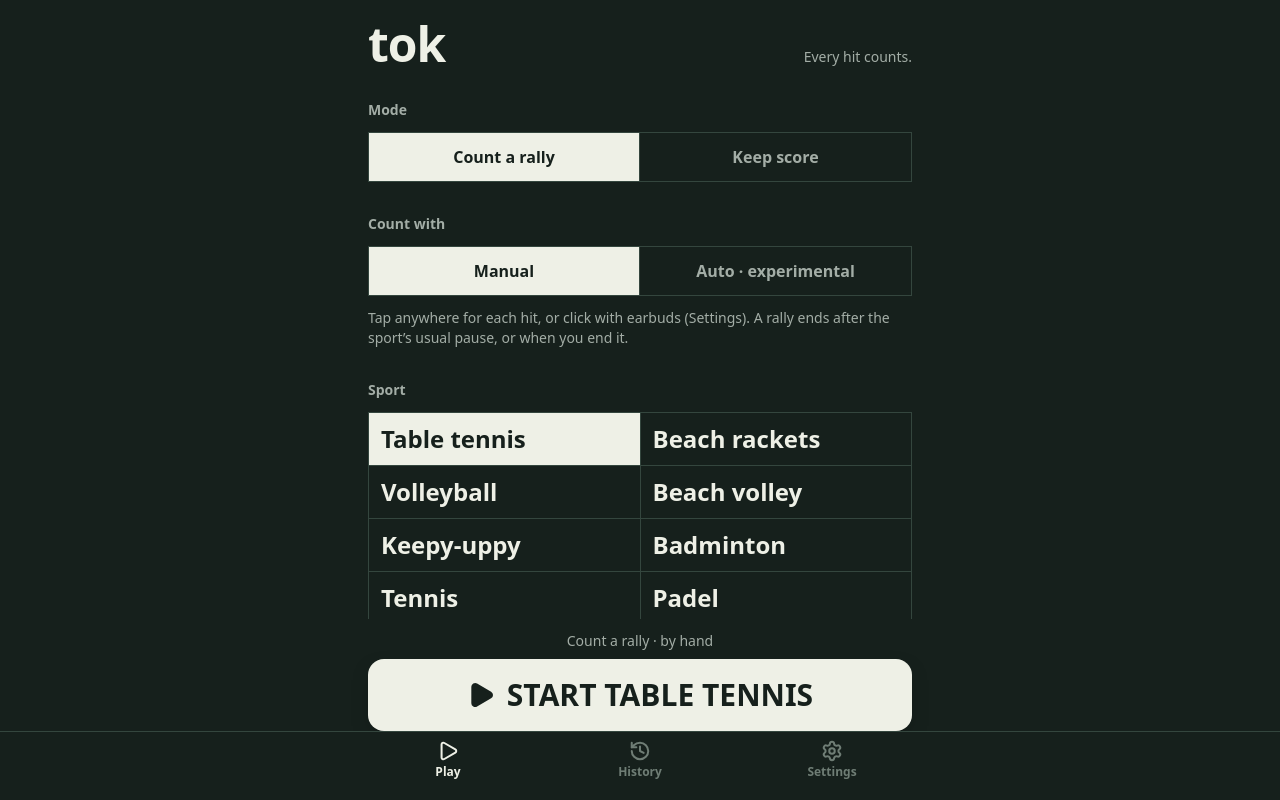
Test: after ending, Back does not reopen the live screen
Click the radio button labelled "Manual" at (504, 271), box 369,247 -> 640,295
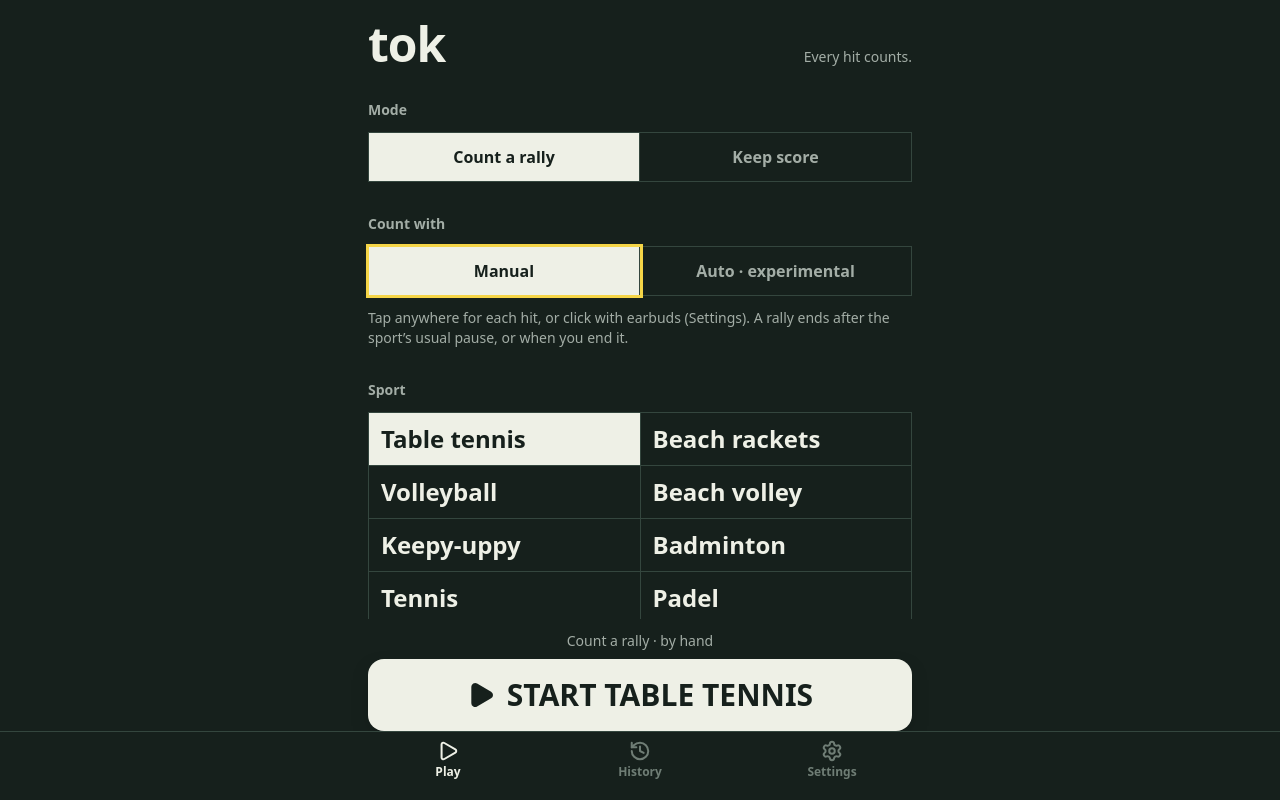
Click the button "Start table tennis" at (640, 695), box 368,659 -> 912,731
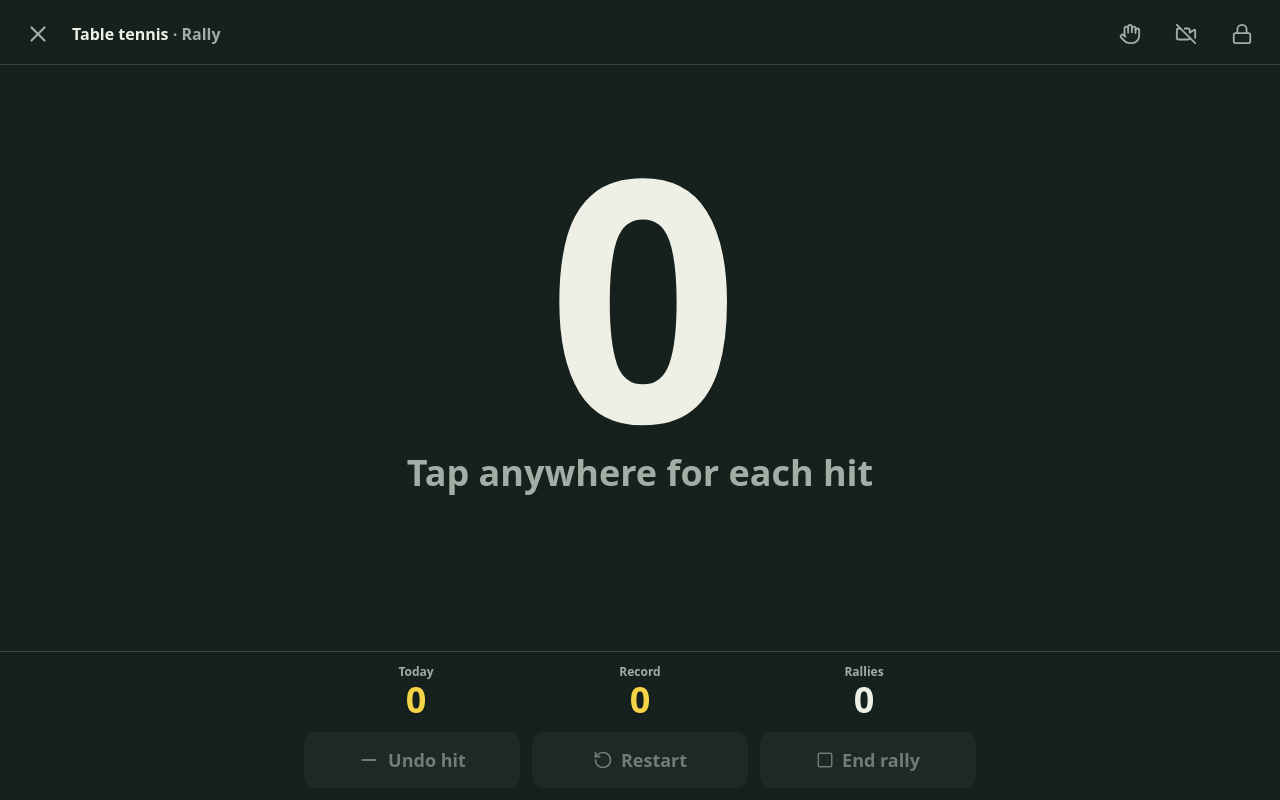
Click the button named "add a hit" at (640, 358), box 0,65 -> 1279,651
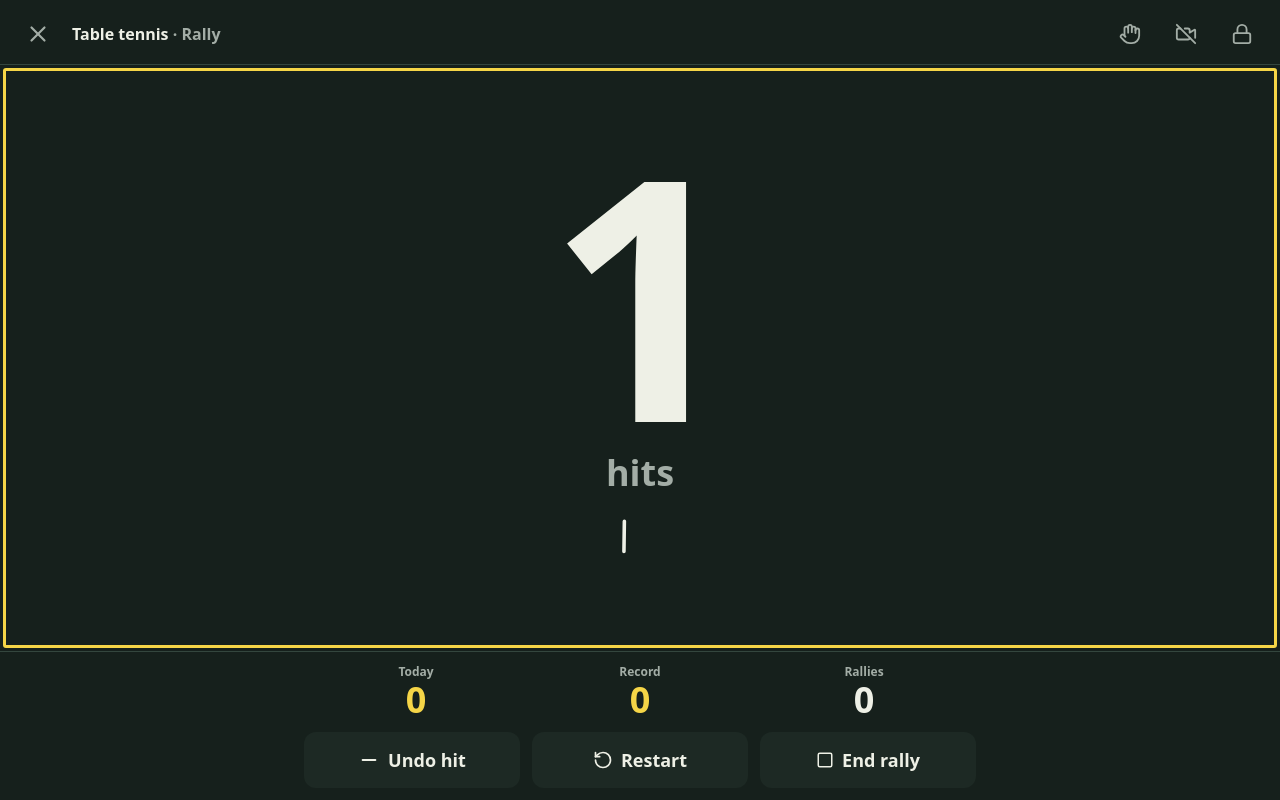
Click the button "End rally" at (868, 760), box 760,732 -> 976,788
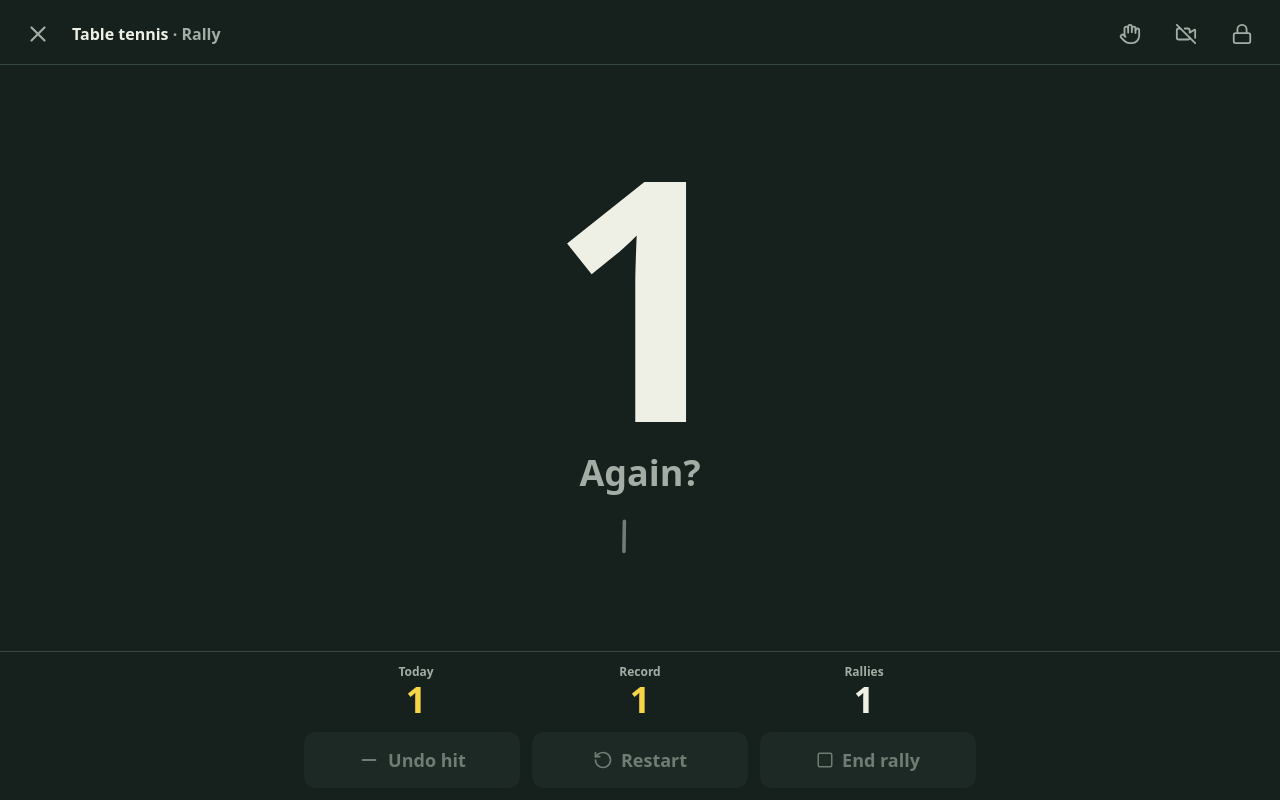
Click the button named "end session" at (38, 34), box 16,12 -> 60,56
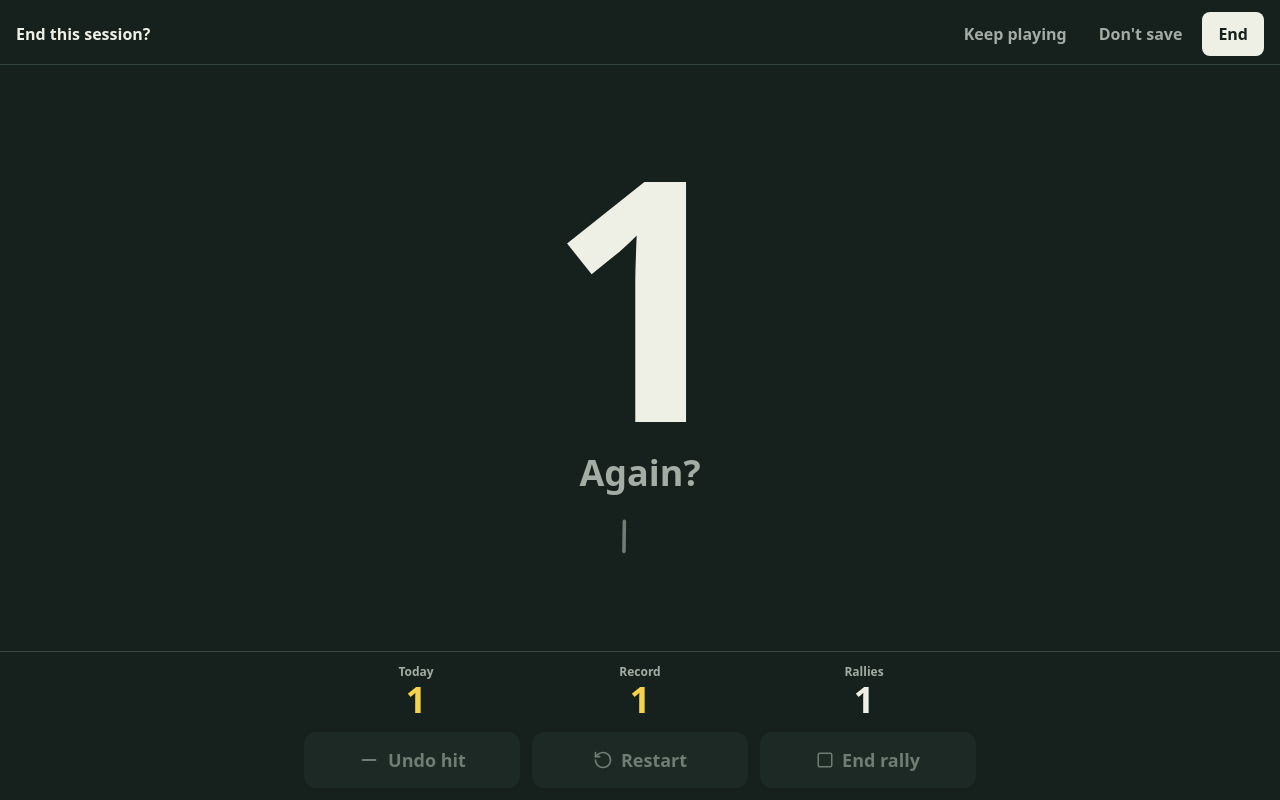
Click the button "End" at (1233, 34), box 1202,12 -> 1264,56
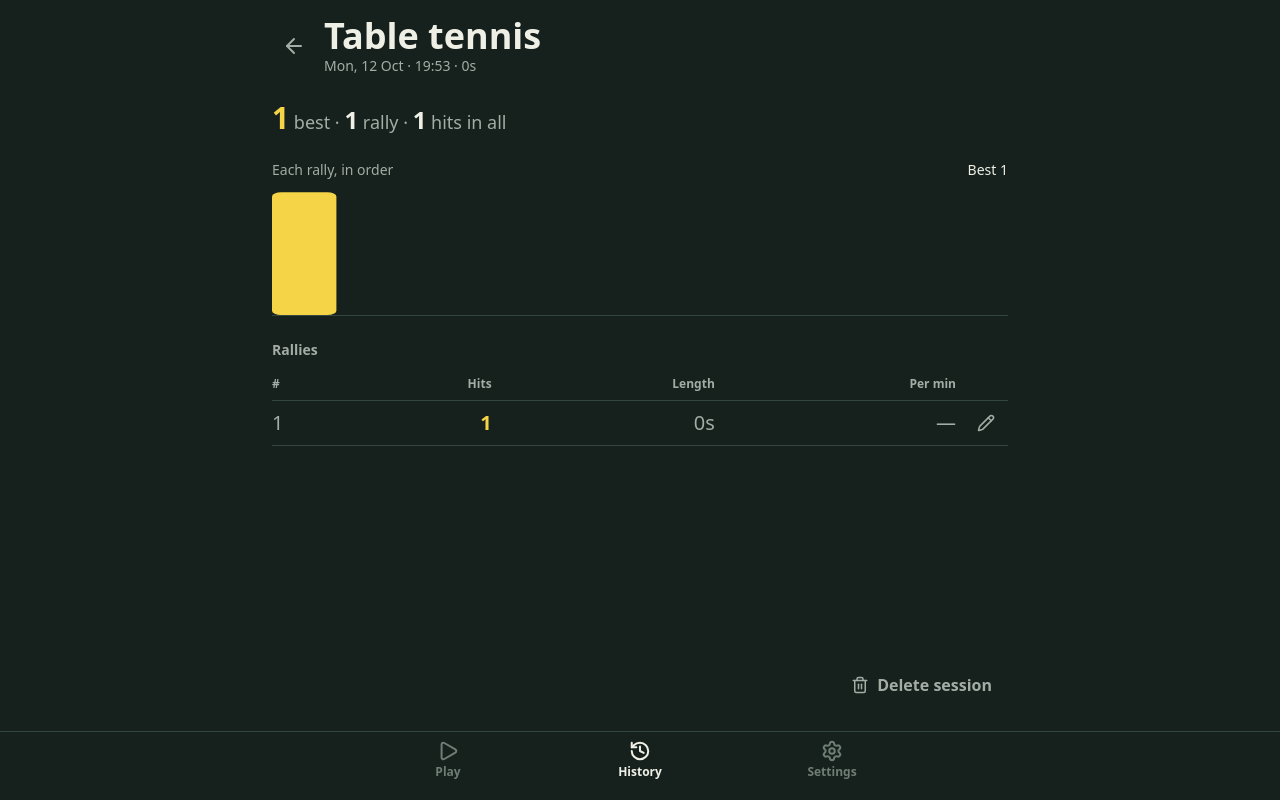
Expected: the heading "Table tennis" is shown, 324,11 -> 541,60
